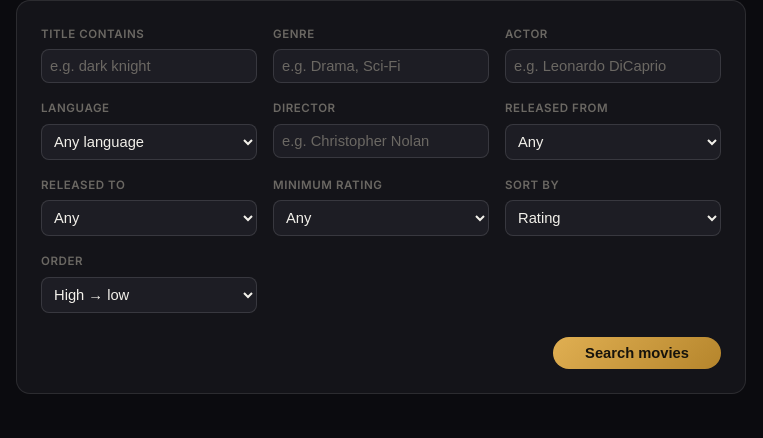
it: MetadataForm language filter › confirms the active choice in plain words
The image size is (763, 438).
Select "Hindi (560)" in the dropdown labelled "Language" at (149, 142), box [41, 124, 257, 160]
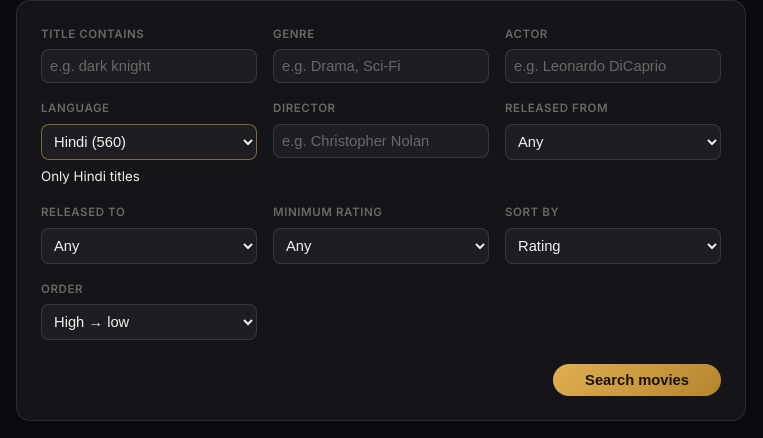
Check: the text "Only Hindi titles" is shown, box [41, 168, 140, 184]
